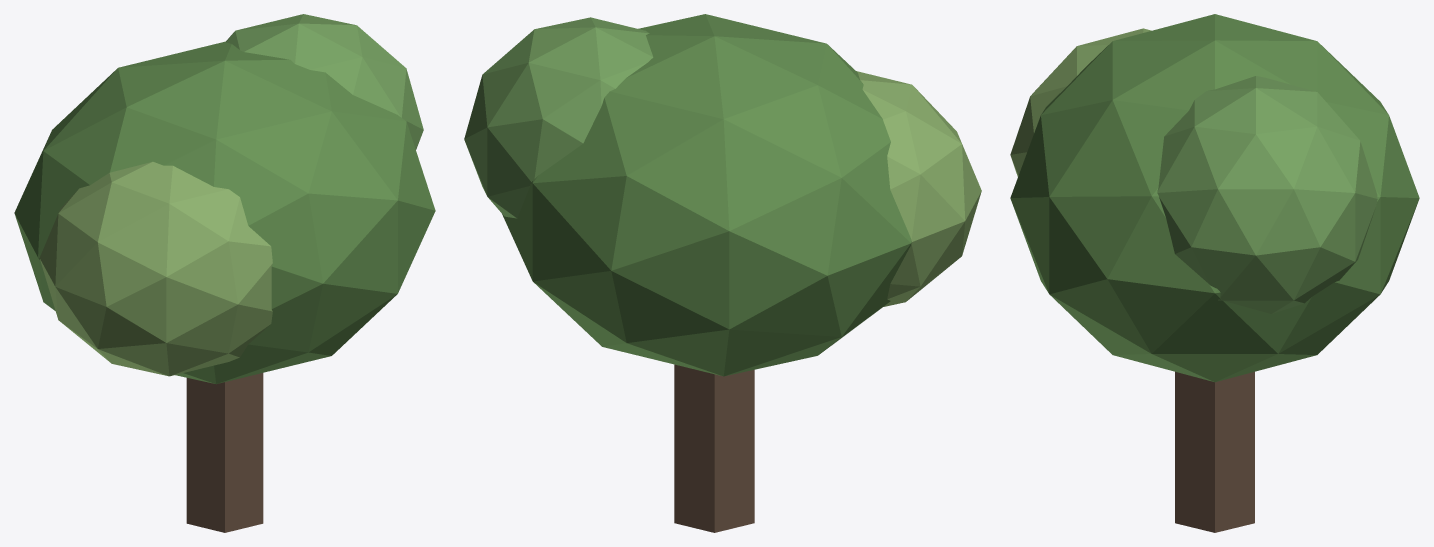
File: buisson.glb
3 renders of one model, left to right at view 1: azimuth 30°, elevation 25°; view 2: azimuth 150°, elevation 25°; view 3: azimuth 270°, elevation 25°, orthographic. The views are drawn at different scales.
Parts seen in each view (by area): view 1: part_00; view 2: part_00; view 3: part_00.
Boxes of the visible parts, x1,y1,x2,y2 form: part_00: [14, 14, 435, 532]; part_00: [464, 14, 981, 532]; part_00: [1010, 14, 1419, 532].
Bounding box in the file's own units: 0.48 × 0.51 × 0.4.
